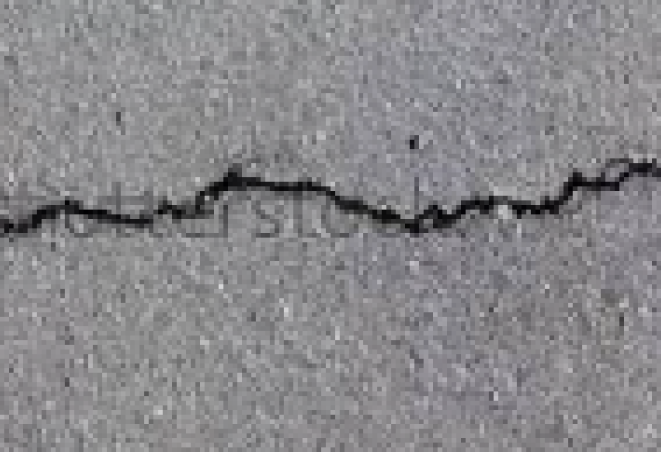Retak Melintang: (1, 150, 661, 262)
